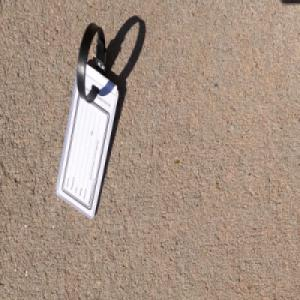LuggageTag: (55, 18, 120, 219)
